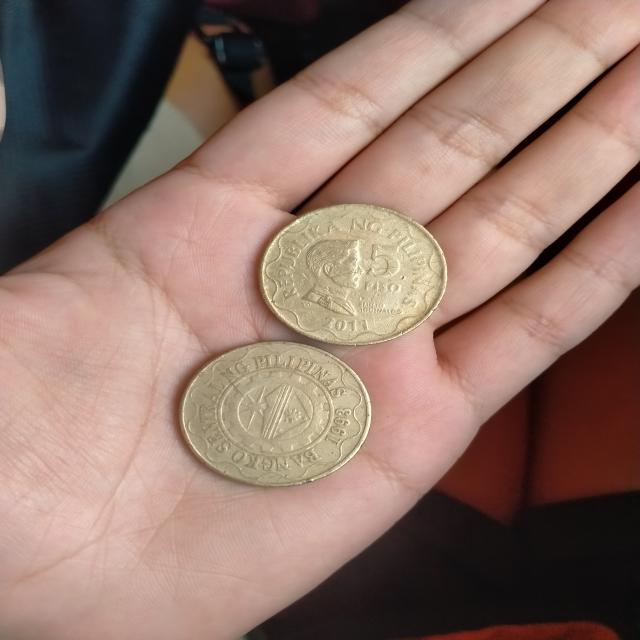5_Old_Back: (182, 338, 372, 486)
5_Old_Front: (347, 242, 424, 298)
